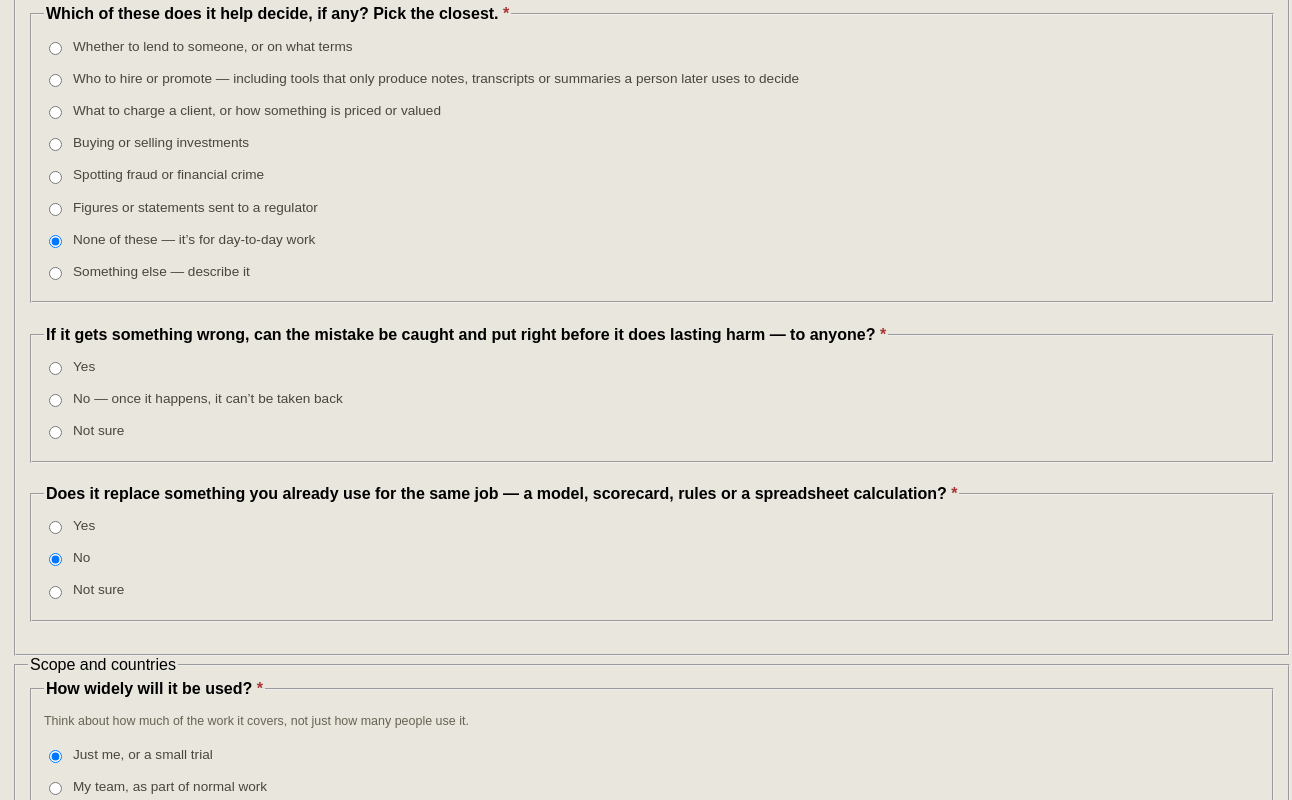
Test case: StructuredForm — CR6-06 (a stale single-select answer reads as unanswered) › TC-CR6-06d: a stale stored answer leaves Continue disabled until the question is re-picked
(page scrolled)
Step 1. Click the radio button labelled "No — once it happens, it can’t be taken back" → coordinates (56, 401), box [49,394,62,407]
(page scrolled)
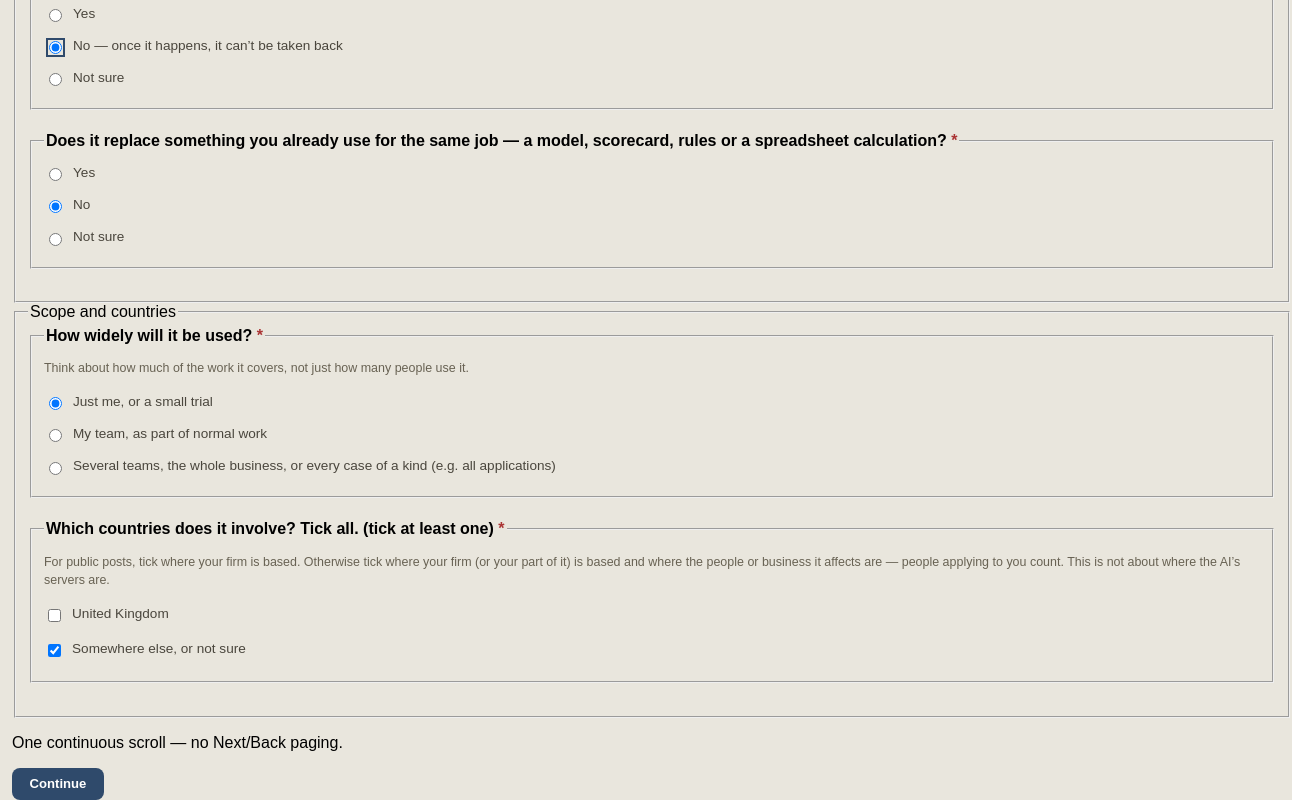
Now the button "Continue" is enabled, box [12,768,104,799]
